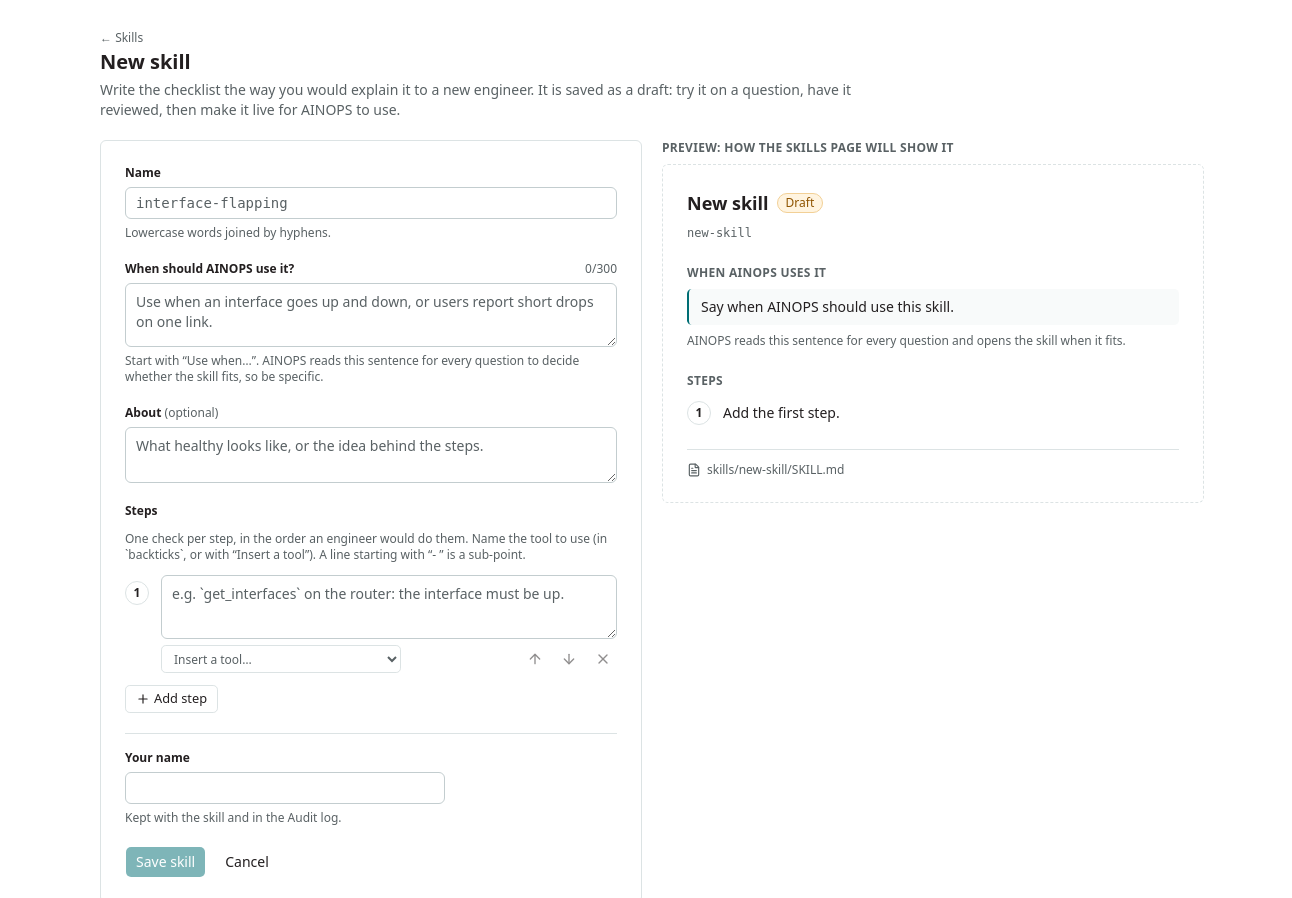
Test: writing a new skill › lists what to fix and keeps Save off
Type "link-check" into the field labelled "Name" at (371,203), box [125, 187, 617, 219]
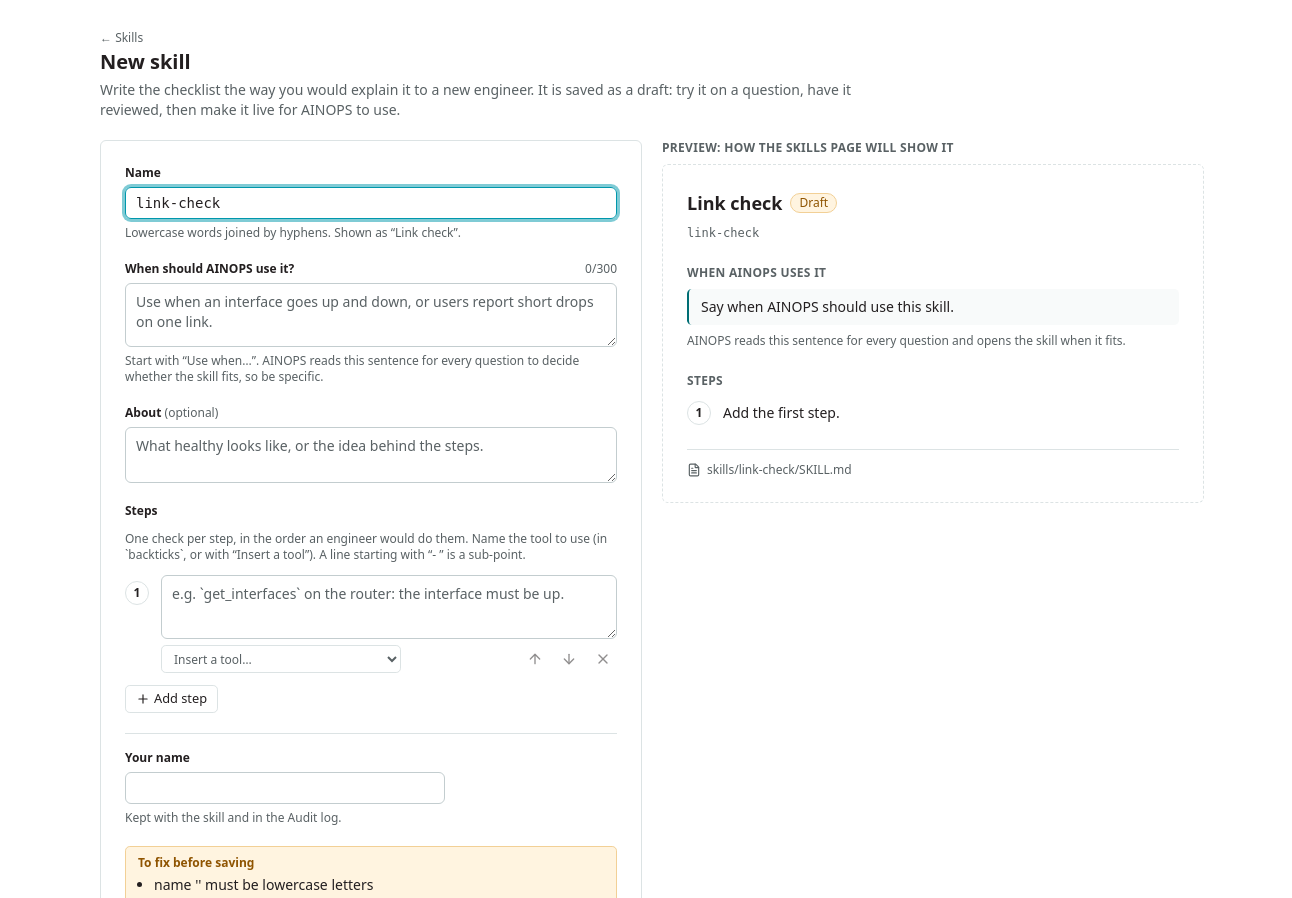
Type "Use when a link is down." into the text box labelled "When should AINOPS use it?" at (371,315), box [125, 283, 617, 347]
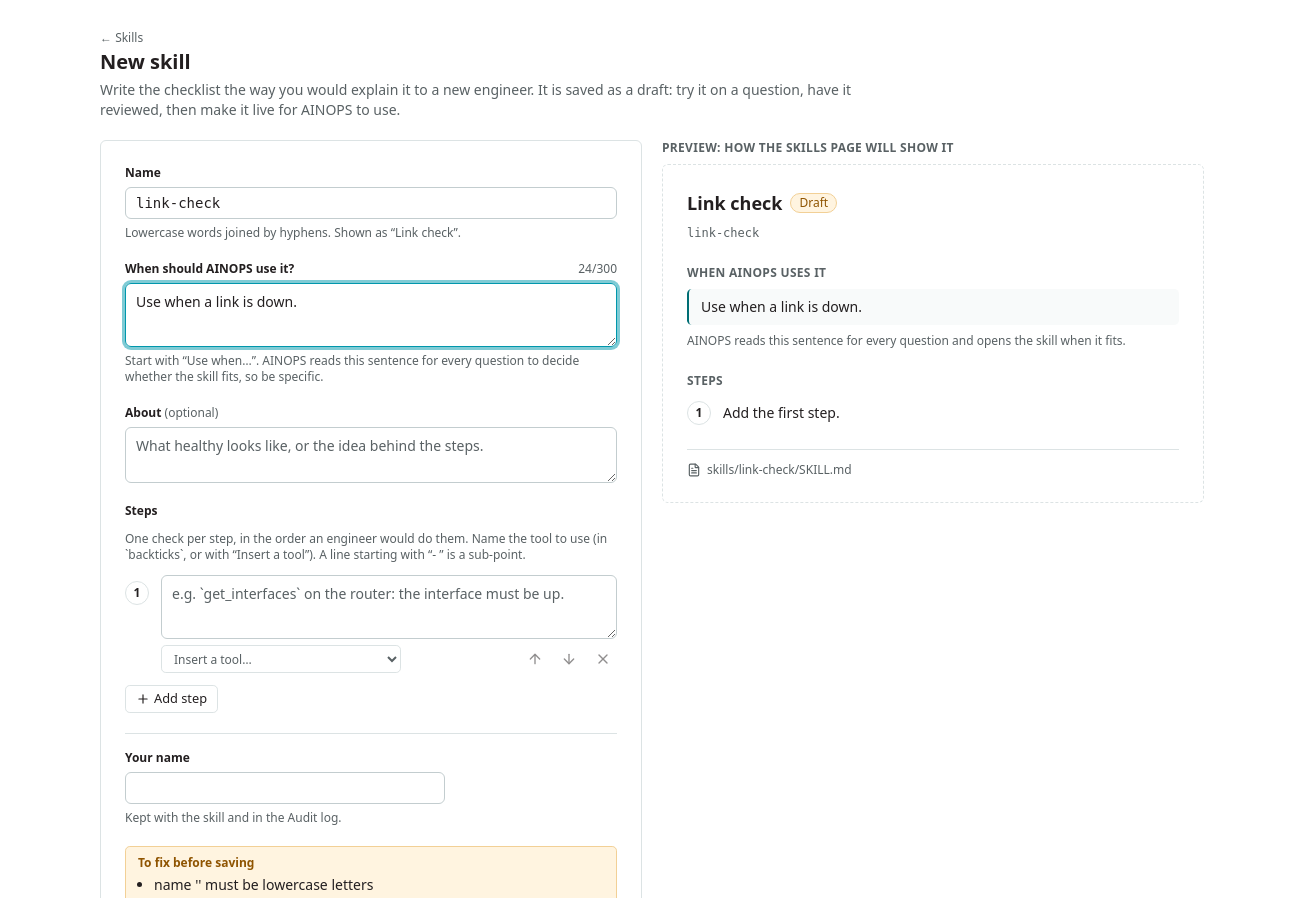
Type "`nope` the router." into the text box named "Step 1" at (389,607), box [161, 575, 617, 639]
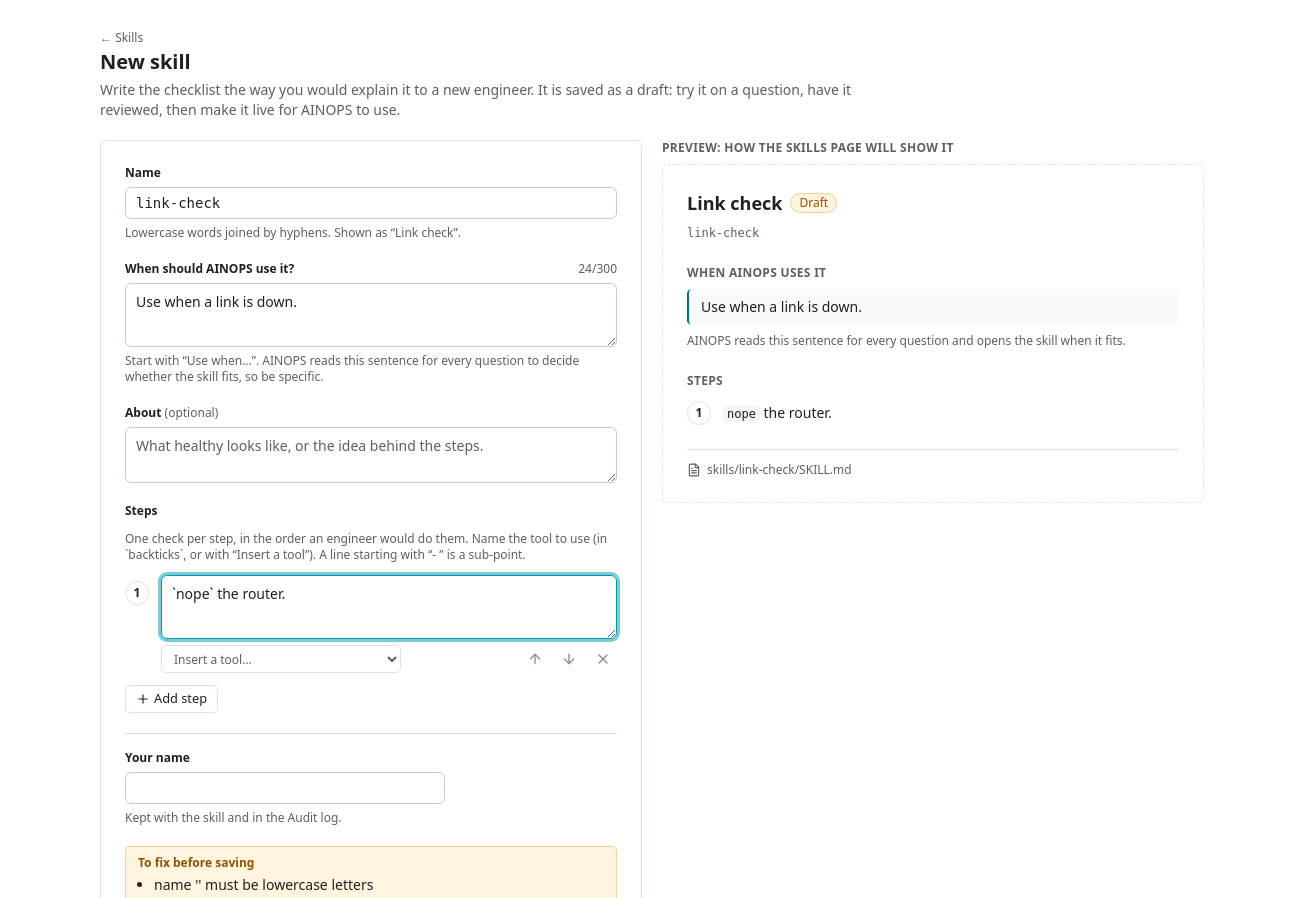
Type "Praveen" into the field labelled "Your name" at (285,788), box [125, 772, 445, 804]
(page scrolled)
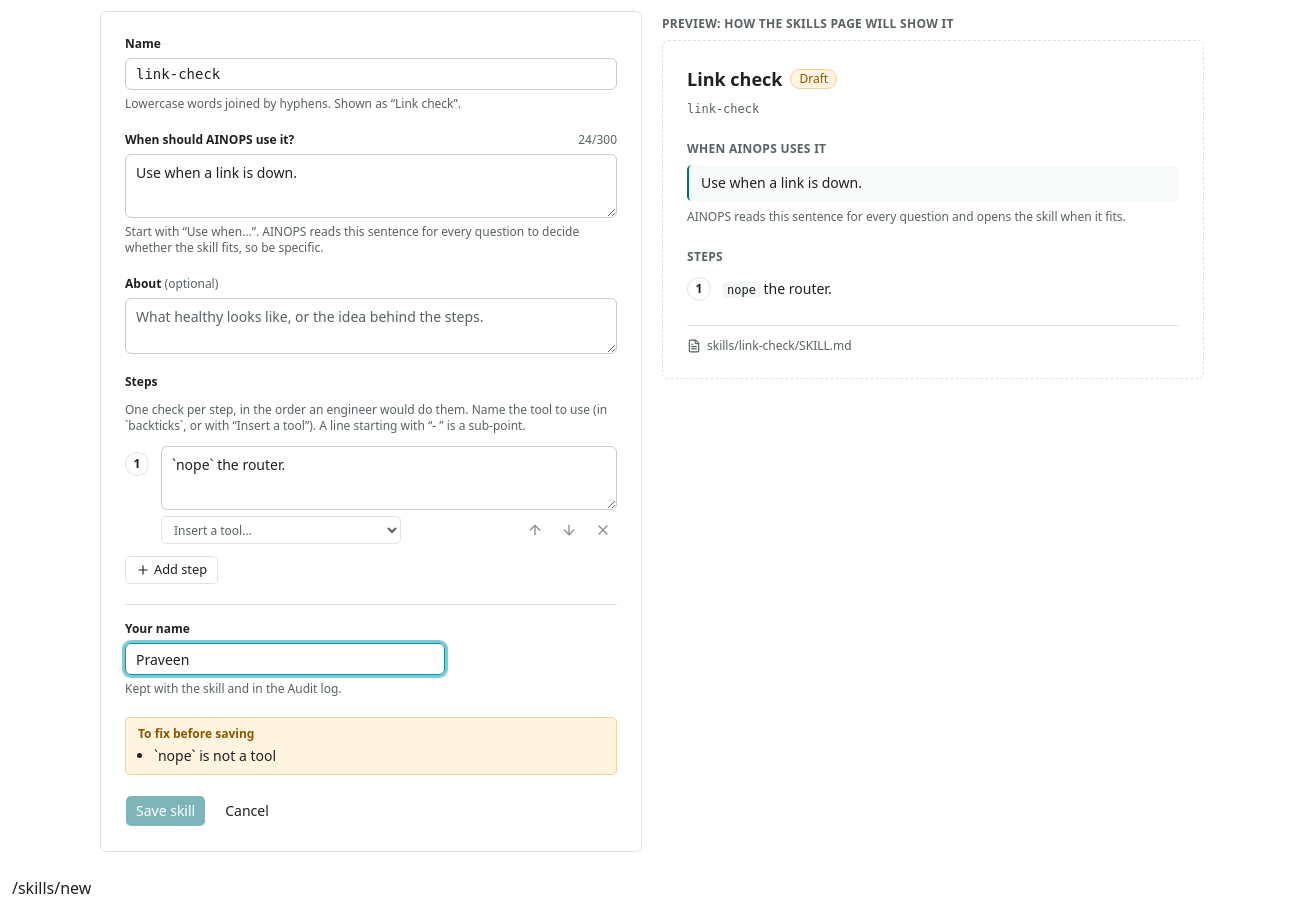
Expected: the button "Save skill" is disabled, [125, 795, 206, 827]
Now the element "To fix before saving" reads "To fix before saving `nope` is not a tool", box [125, 717, 617, 775]
